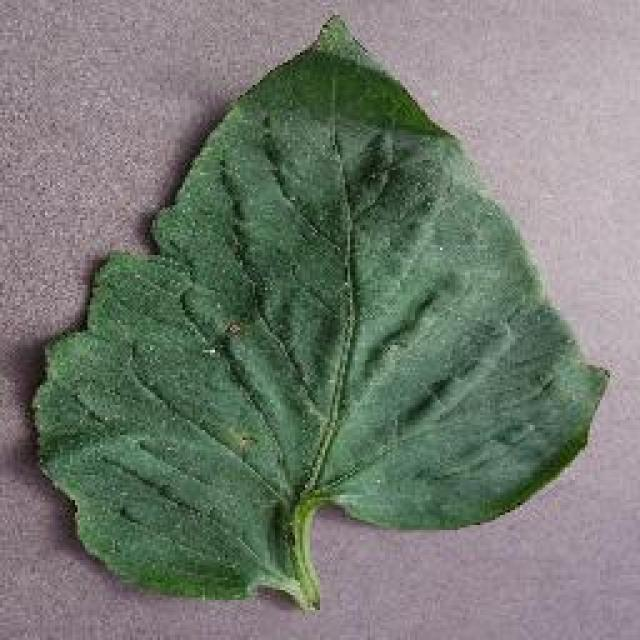Tom_Target_Spot: (192, 298, 258, 374), (212, 412, 270, 472)
